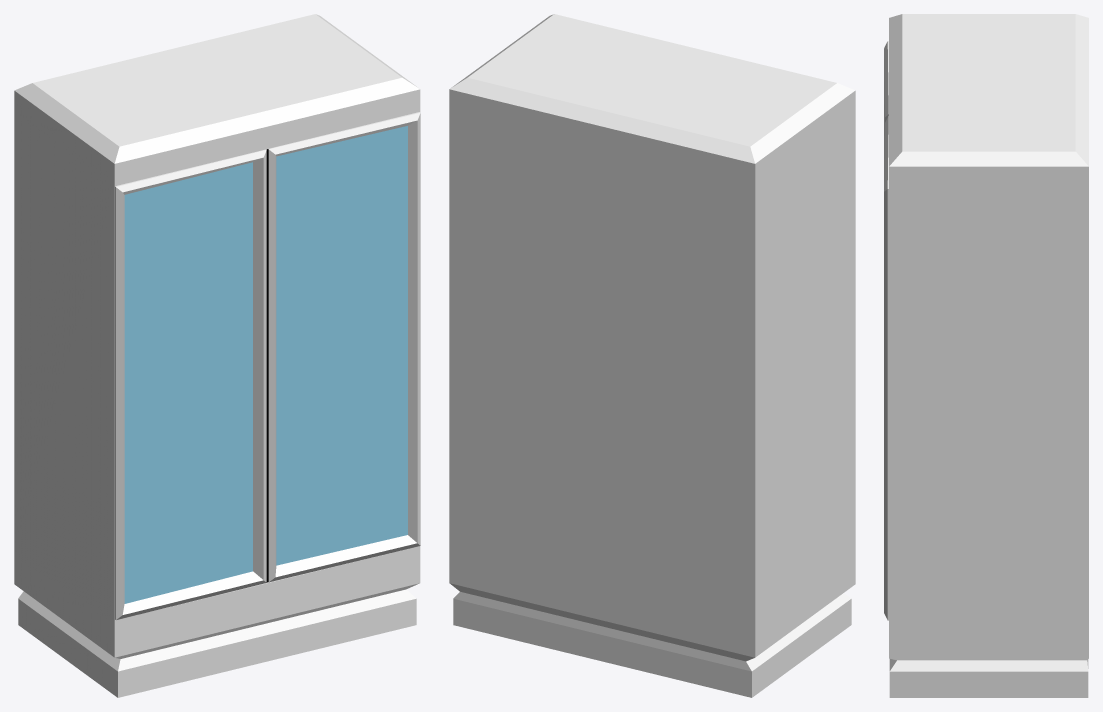
The model's file is GROCERY_COOLER.fbx.
3 views of the same model, side by side, from view 1: azimuth 30°, elevation 25°; view 2: azimuth 150°, elevation 25°; view 3: azimuth 270°, elevation 25° (orthographic).
Visible parts, largest first — view 1: COOLER, COOLER.002, COOLER.001; view 2: COOLER; view 3: COOLER, COOLER.002, COOLER.001.
Boxes of the visible parts, x1,y1,x2,y2 form: COOLER: [14, 14, 420, 697]; COOLER.002: [267, 112, 420, 582]; COOLER.001: [115, 149, 267, 619]; COOLER: [449, 14, 855, 697]; COOLER: [889, 14, 1088, 697]; COOLER.002: [884, 115, 888, 620]; COOLER.001: [884, 41, 888, 180].
Size of the model in its own units: 294 by 499 by 171.
